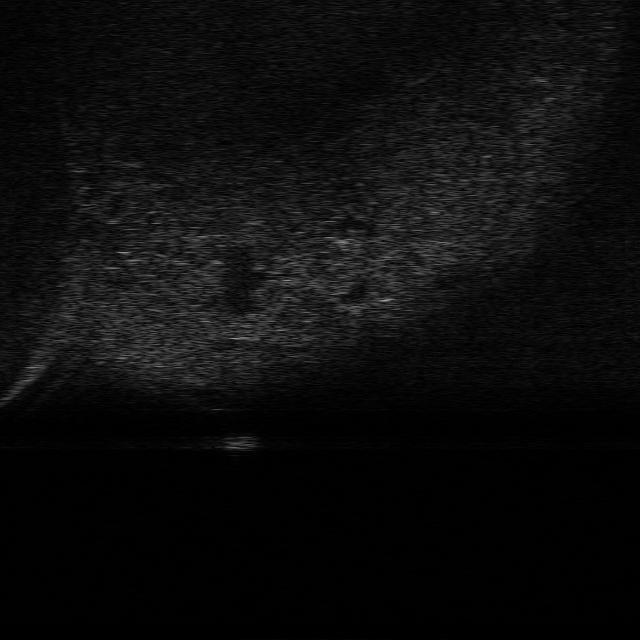cube: (215, 432, 264, 452)
